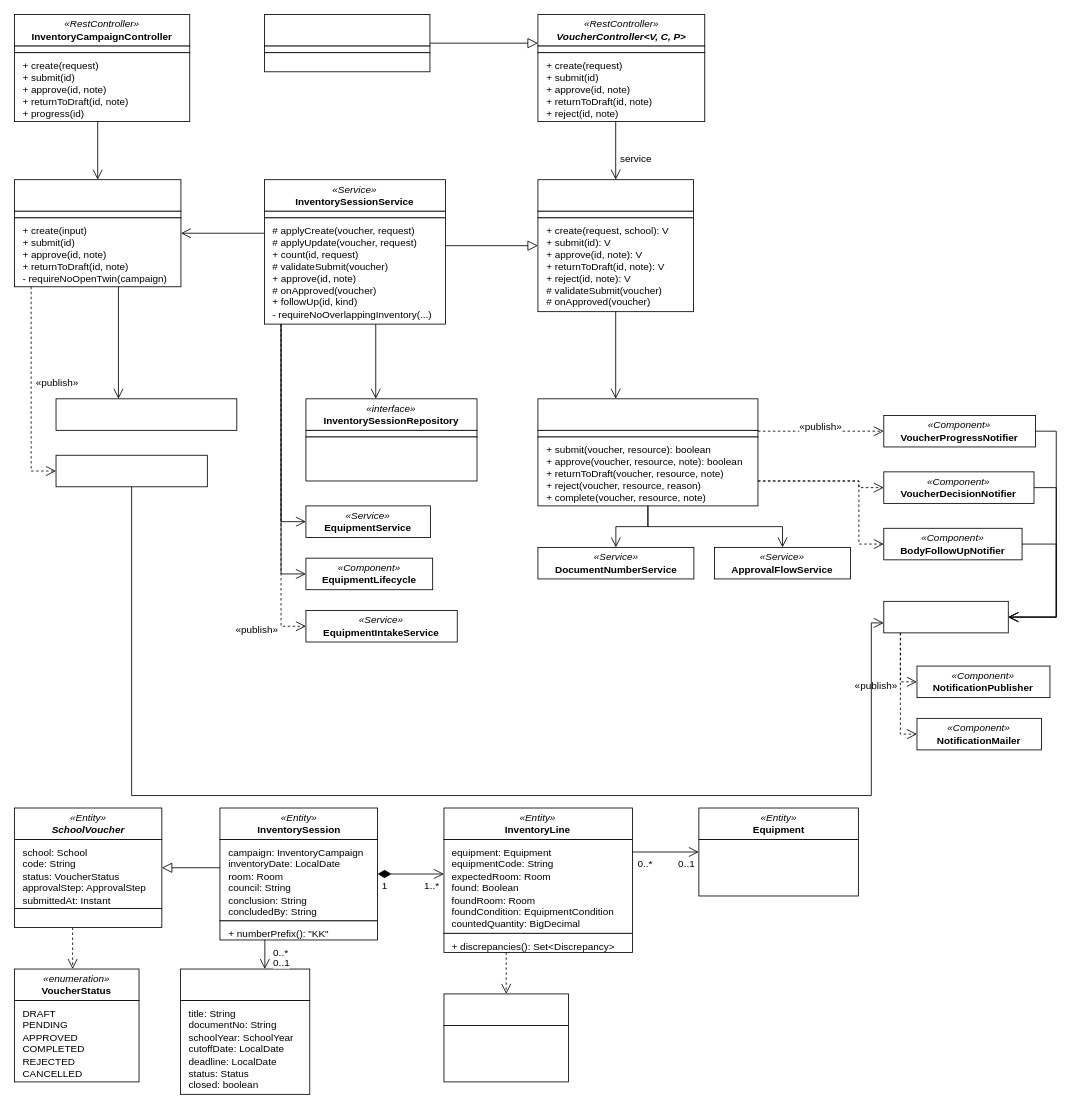
The diagram is 1081 pixels wide and 1109 high, and some of its shapes have lost their labels. The shapes that lost their labels are listed below. From the top down, each one's box as (x1, y1, x2, y2) in pixels, then its label:
(264, 14, 430, 46): «RestController» InventorySessionController
(264, 52, 430, 72): + count(id, request)
(14, 179, 181, 211): «Service» InventoryCampaignService
(537, 179, 694, 211): «Service» VoucherService<V, C, P>
(55, 398, 237, 430): «interface» InventoryCampaignRepository
(537, 398, 758, 430): «Component» VoucherWorkflow
(55, 454, 207, 487): «Component» CampaignLaunchNotifier
(305, 436, 477, 481): + findOne(spec) + findLiveForCampaign(...) + persist(session)
(883, 601, 1008, 633): «Service» NotificationService
(698, 839, 858, 896): code: String room: Room condition: EquipmentCondition status: AssetStatus
(14, 908, 162, 928): + numberPrefix(): String
(180, 968, 310, 1001): «Entity» InventoryCampaign
(443, 993, 568, 1025): «enumeration» Discrepancy
(443, 1025, 568, 1082): MISSING WRONG_ROOM CONDITION SHORTAGE
